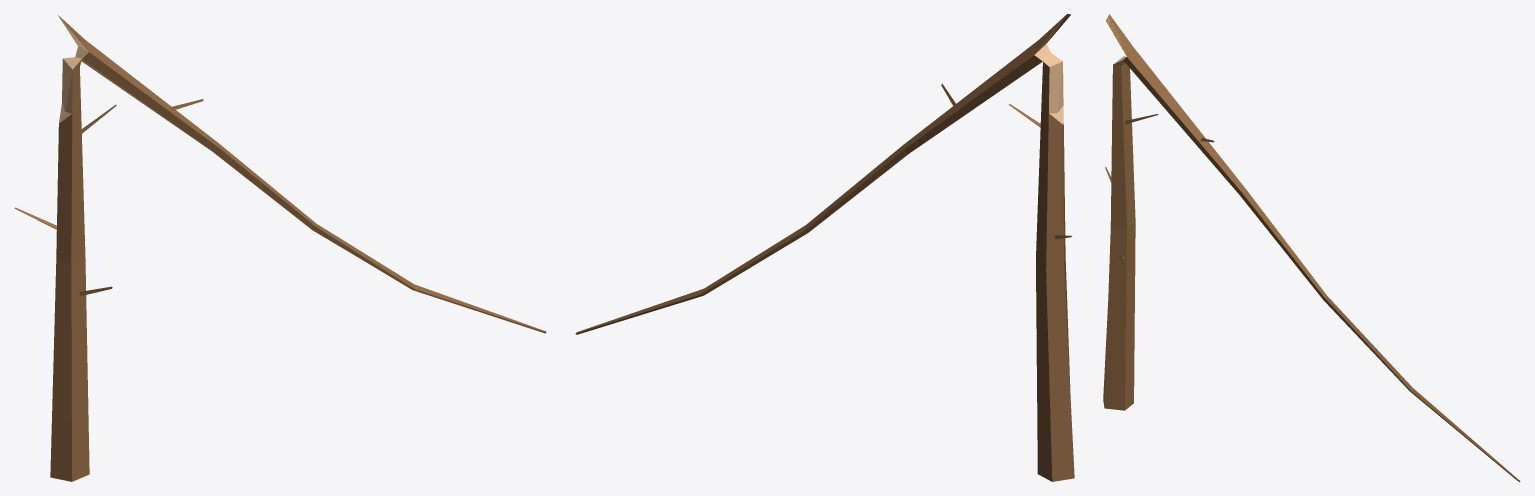
The model's file is Pine_Tree_NoLeaves_crk_l_06_LOD.fbx.
3 renders of one model, left to right at view 1: azimuth 30°, elevation 25°; view 2: azimuth 150°, elevation 25°; view 3: azimuth 330°, elevation 25°, orthographic. The views are drawn at different scales.
Parts seen in each view (by area): view 1: Pine_Tree_NoLeaves_crk_l_06_LOD0; view 2: Pine_Tree_NoLeaves_crk_l_06_LOD0; view 3: Pine_Tree_NoLeaves_crk_l_06_LOD0.
Part boxes in pixels (x1,y1,x2,y2): Pine_Tree_NoLeaves_crk_l_06_LOD0: [14, 14, 546, 481]; Pine_Tree_NoLeaves_crk_l_06_LOD0: [575, 14, 1074, 481]; Pine_Tree_NoLeaves_crk_l_06_LOD0: [1103, 14, 1520, 481].
Size of what is drawn, in the model's own units: 1023 by 878 by 133.
